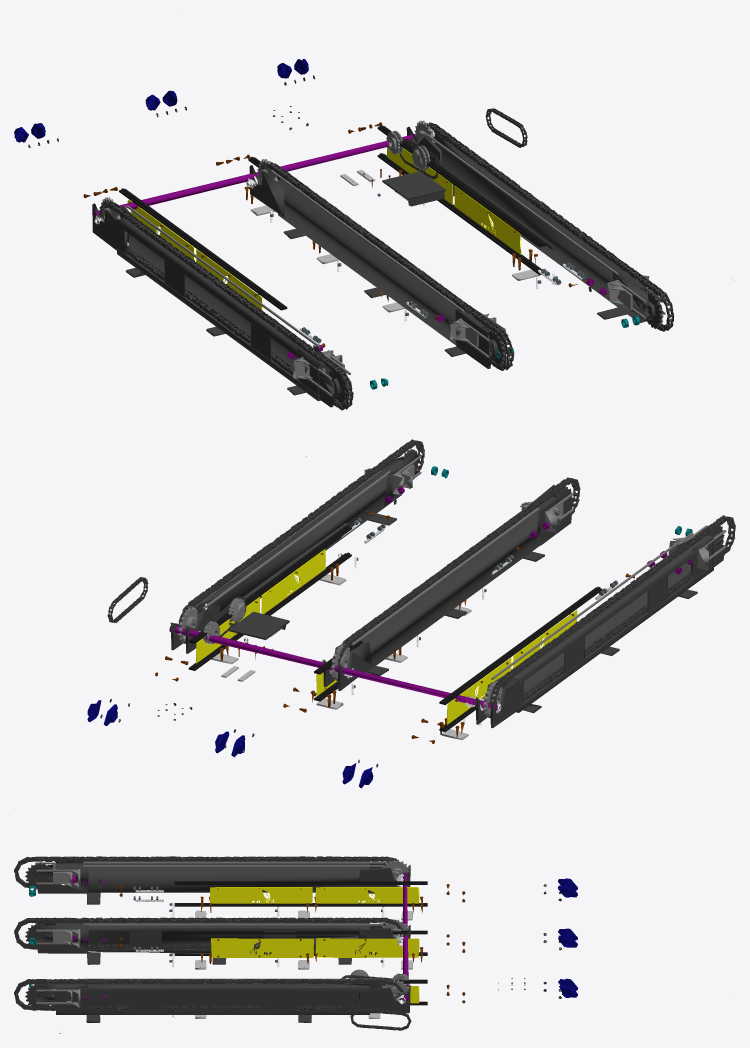
The model's file is hero.glb.
3 renders of one model, top to bottom at view 1: azimuth 30°, elevation 25°; view 2: azimuth 150°, elevation 25°; view 3: azimuth 270°, elevation 25°, orthographic. The views are drawn at different scales.
Parts seen in each view (by area): view 1: matte steel, matte steel-3, color-17, color, matte steel-5, color-3, color-22, color-7; view 2: matte steel, color-17, color, matte steel-3, matte steel-5, color-3, color-22, color-7, color-35; view 3: matte steel, color-17, matte steel-3, color, color-3, color-22, color-7, matte steel-5, color-35, matte steel-10.
Boxes of the visible parts, x1,y1,x2,y2 form: matte steel: (92, 108, 733, 410); matte steel-3: (126, 131, 651, 378); color-17: (127, 147, 521, 309); color: (119, 125, 545, 310); matte steel-5: (93, 134, 619, 358); color-3: (101, 120, 665, 396); color-22: (14, 59, 308, 142); color-7: (127, 170, 539, 312); matte steel: (107, 439, 735, 728); color-17: (196, 549, 577, 724); color: (188, 525, 602, 731); matte steel-3: (194, 464, 709, 679); matte steel-5: (169, 485, 691, 710); color-3: (178, 455, 726, 718); color-22: (87, 700, 373, 788); color-7: (211, 574, 471, 740); color-35: (155, 563, 466, 743); matte steel: (14, 856, 411, 1033); color-17: (209, 887, 419, 1003); matte steel-3: (53, 861, 409, 1003); color: (174, 881, 427, 1005); color-3: (36, 859, 410, 1007); color-22: (558, 878, 577, 997); color-7: (195, 910, 412, 1018); matte steel-5: (70, 872, 408, 1001); color-35: (200, 884, 465, 1003); matte steel-10: (135, 890, 384, 1017).
Bounding box in the file's own units: 3.59 × 0.4666 × 6.72.
